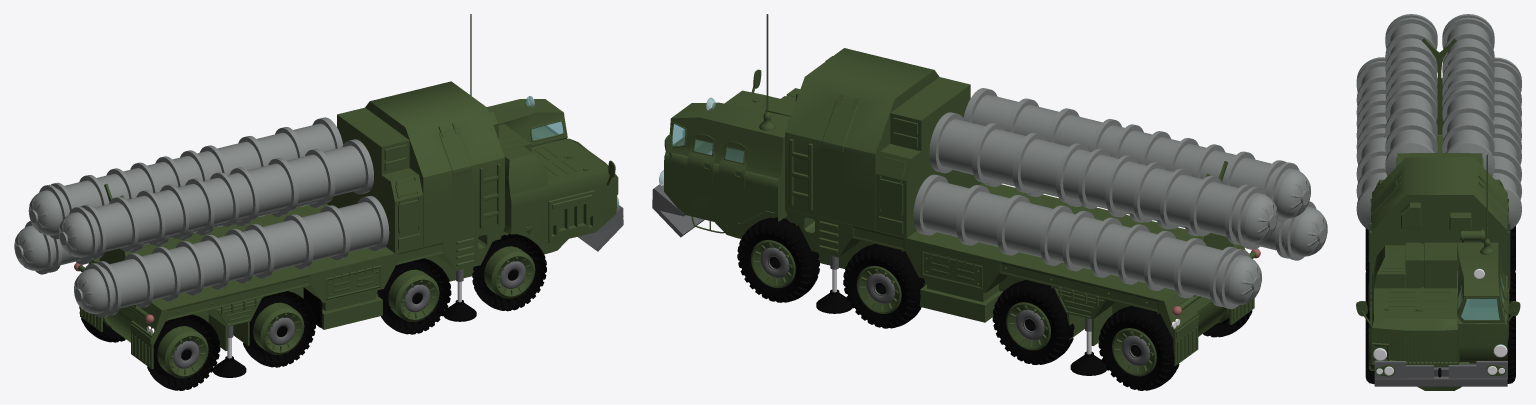
File: rocket_launcher.fbx
3 renders of one model, left to right at view 1: azimuth 30°, elevation 25°; view 2: azimuth 150°, elevation 25°; view 3: azimuth 270°, elevation 25°, orthographic. The views are drawn at different scales.
Visible parts, largest first — view 1: Body, Cylinder20, Cylinder11, Cylinder21, Cylinder22; view 2: Body, Cylinder22, Cylinder21, Cylinder20, Cylinder11; view 3: Body, Cylinder20, Cylinder21, Cylinder11, Cylinder22.
Boxes of the visible parts, left/top/right/bottom form: Body: left=74, top=14, right=623, bottom=390; Cylinder20: left=58, top=139, right=373, bottom=261; Cylinder11: left=74, top=196, right=389, bottom=317; Cylinder21: left=28, top=117, right=343, bottom=239; Cylinder22: left=14, top=200, right=326, bottom=274; Body: left=652, top=14, right=1260, bottom=390; Cylinder22: left=913, top=174, right=1261, bottom=309; Cylinder21: left=929, top=112, right=1277, bottom=246; Cylinder20: left=963, top=88, right=1310, bottom=222; Cylinder11: left=984, top=180, right=1327, bottom=260; Body: left=1356, top=38, right=1520, bottom=390; Cylinder20: left=1385, top=14, right=1437, bottom=175; Cylinder21: left=1442, top=14, right=1494, bottom=176; Cylinder11: left=1356, top=57, right=1387, bottom=229; Cylinder22: left=1492, top=57, right=1521, bottom=229.
Size of the model in its own units: 971 by 419 by 269.
